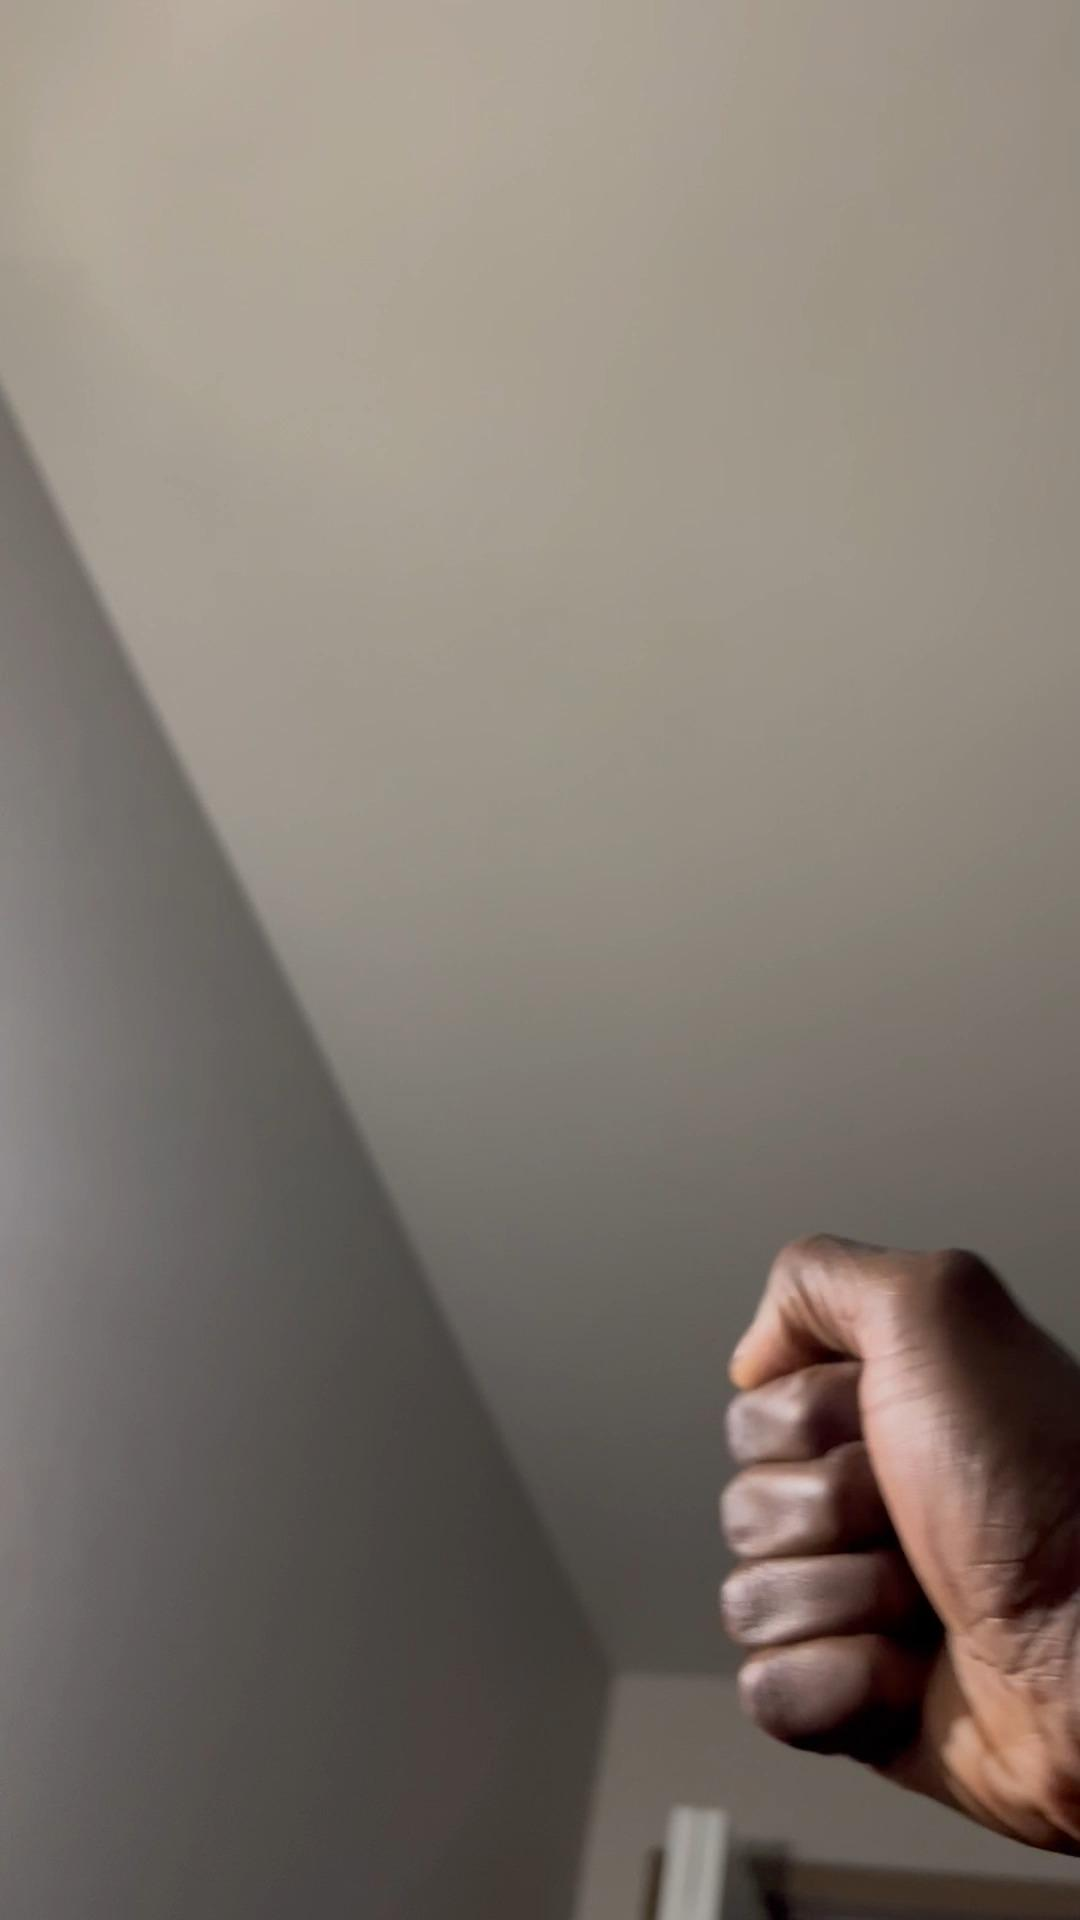Rock: (723, 1210, 1079, 1857)
